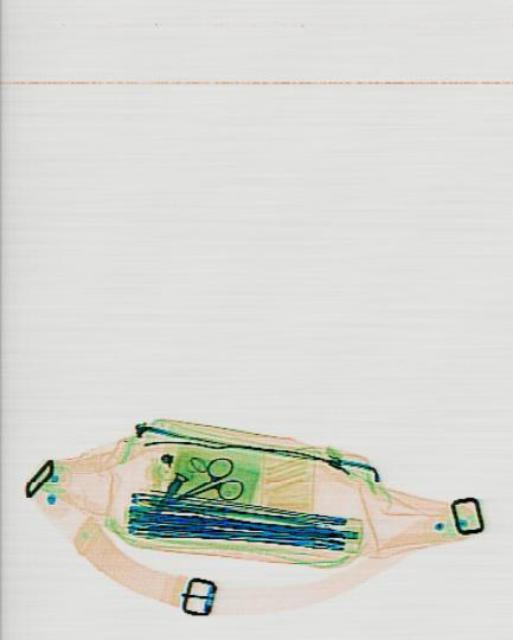Scissors: (162, 450, 244, 524)
